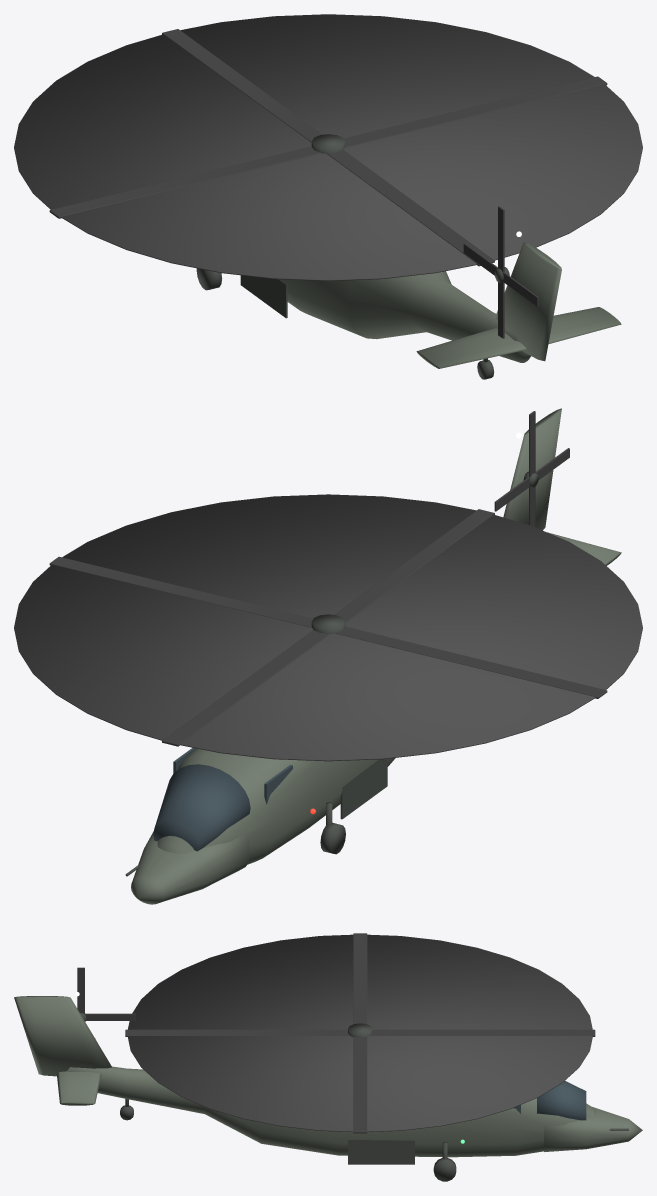
Rendered from drop-heli.glb.
The picture shows the model from 3 angles, top to bottom: view 1: azimuth 30°, elevation 25°; view 2: azimuth 150°, elevation 25°; view 3: azimuth 270°, elevation 25°; orthographic projection. The views are drawn at different scales.
Parts seen in each view (by area): view 1: MainRotorBlur, Blackhawk, MainRotor, TailRotor; view 2: MainRotorBlur, Blackhawk, MainRotor, TailRotor; view 3: MainRotorBlur, Blackhawk, MainRotor, TailRotor.
Boxes of the visible parts, x1,y1,x2,y2 form: MainRotorBlur: (14,14,642,280); Blackhawk: (196,242,621,379); MainRotor: (49,29,607,266); TailRotor: (463,206,538,338); MainRotorBlur: (14,494,642,761); Blackhawk: (125,408,621,904); MainRotor: (49,509,607,746); TailRotor: (494,411,569,527); MainRotorBlur: (127,934,592,1131); Blackhawk: (14,996,642,1181); MainRotor: (125,933,595,1133); TailRotor: (77,967,135,1021).
Size of the model in its own units: 10.64 by 4.6 by 14.24.
